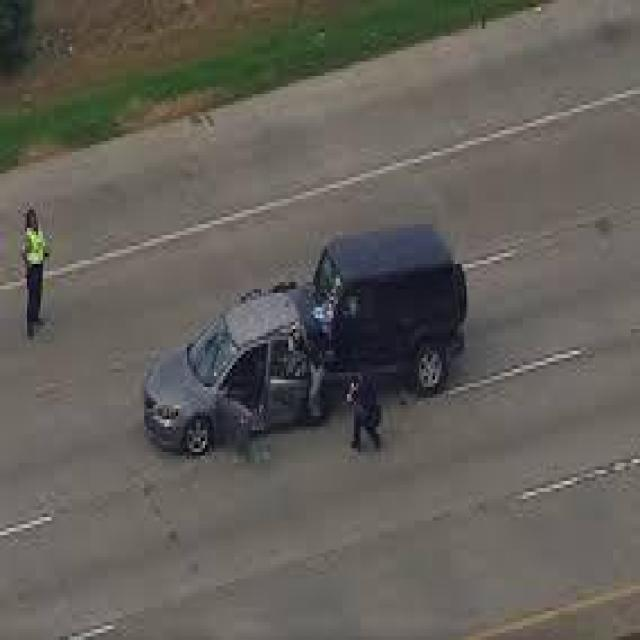moderate: (135, 217, 471, 448)
